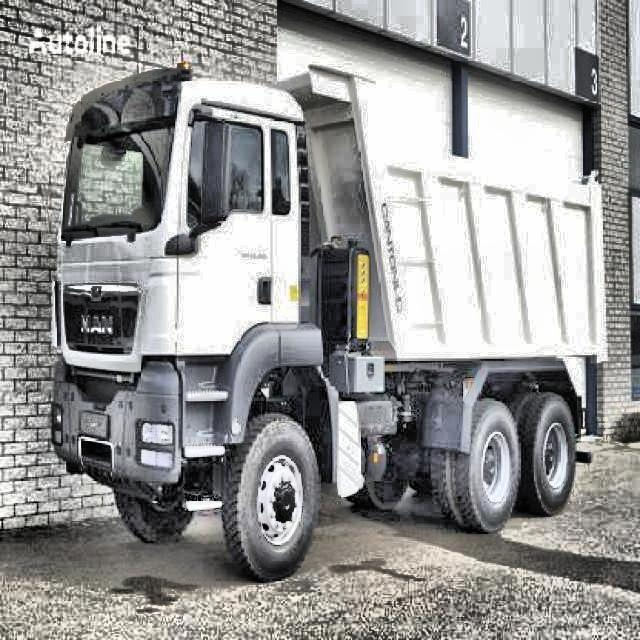dump_truck: (45, 50, 610, 581)
